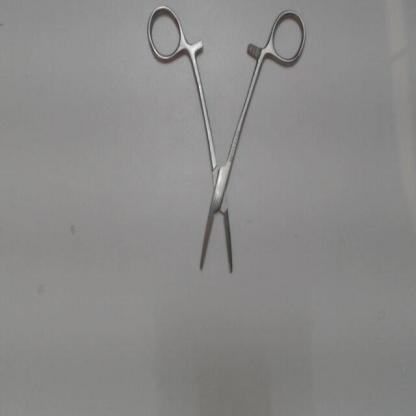Mayo Needle Holder: (141, 1, 310, 282)
